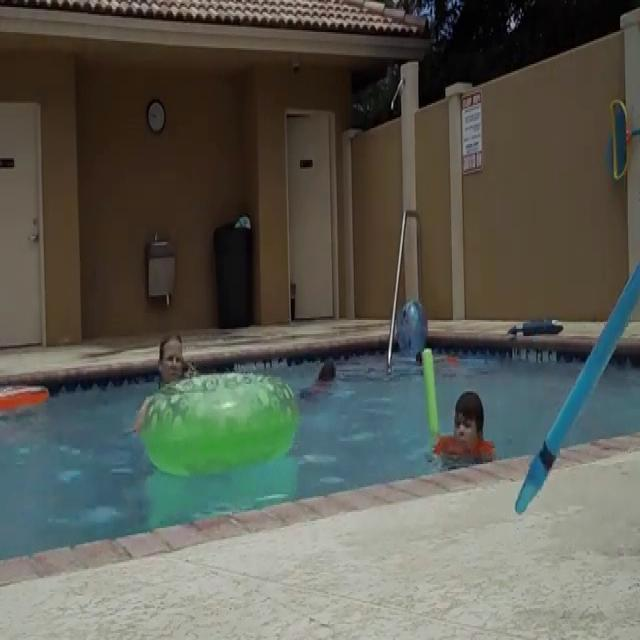adult: (134, 331, 199, 444)
child: (448, 387, 490, 460), (303, 362, 339, 410)
